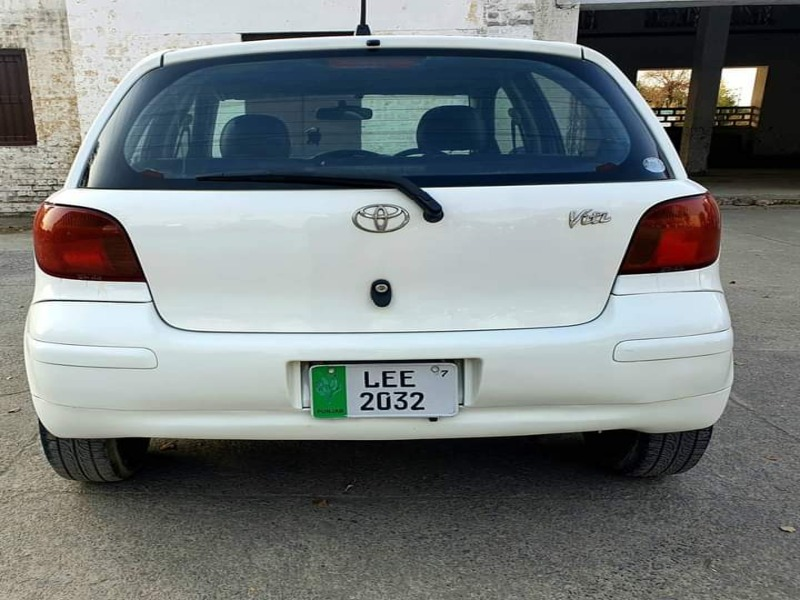License Plate: (307, 359, 462, 425)
